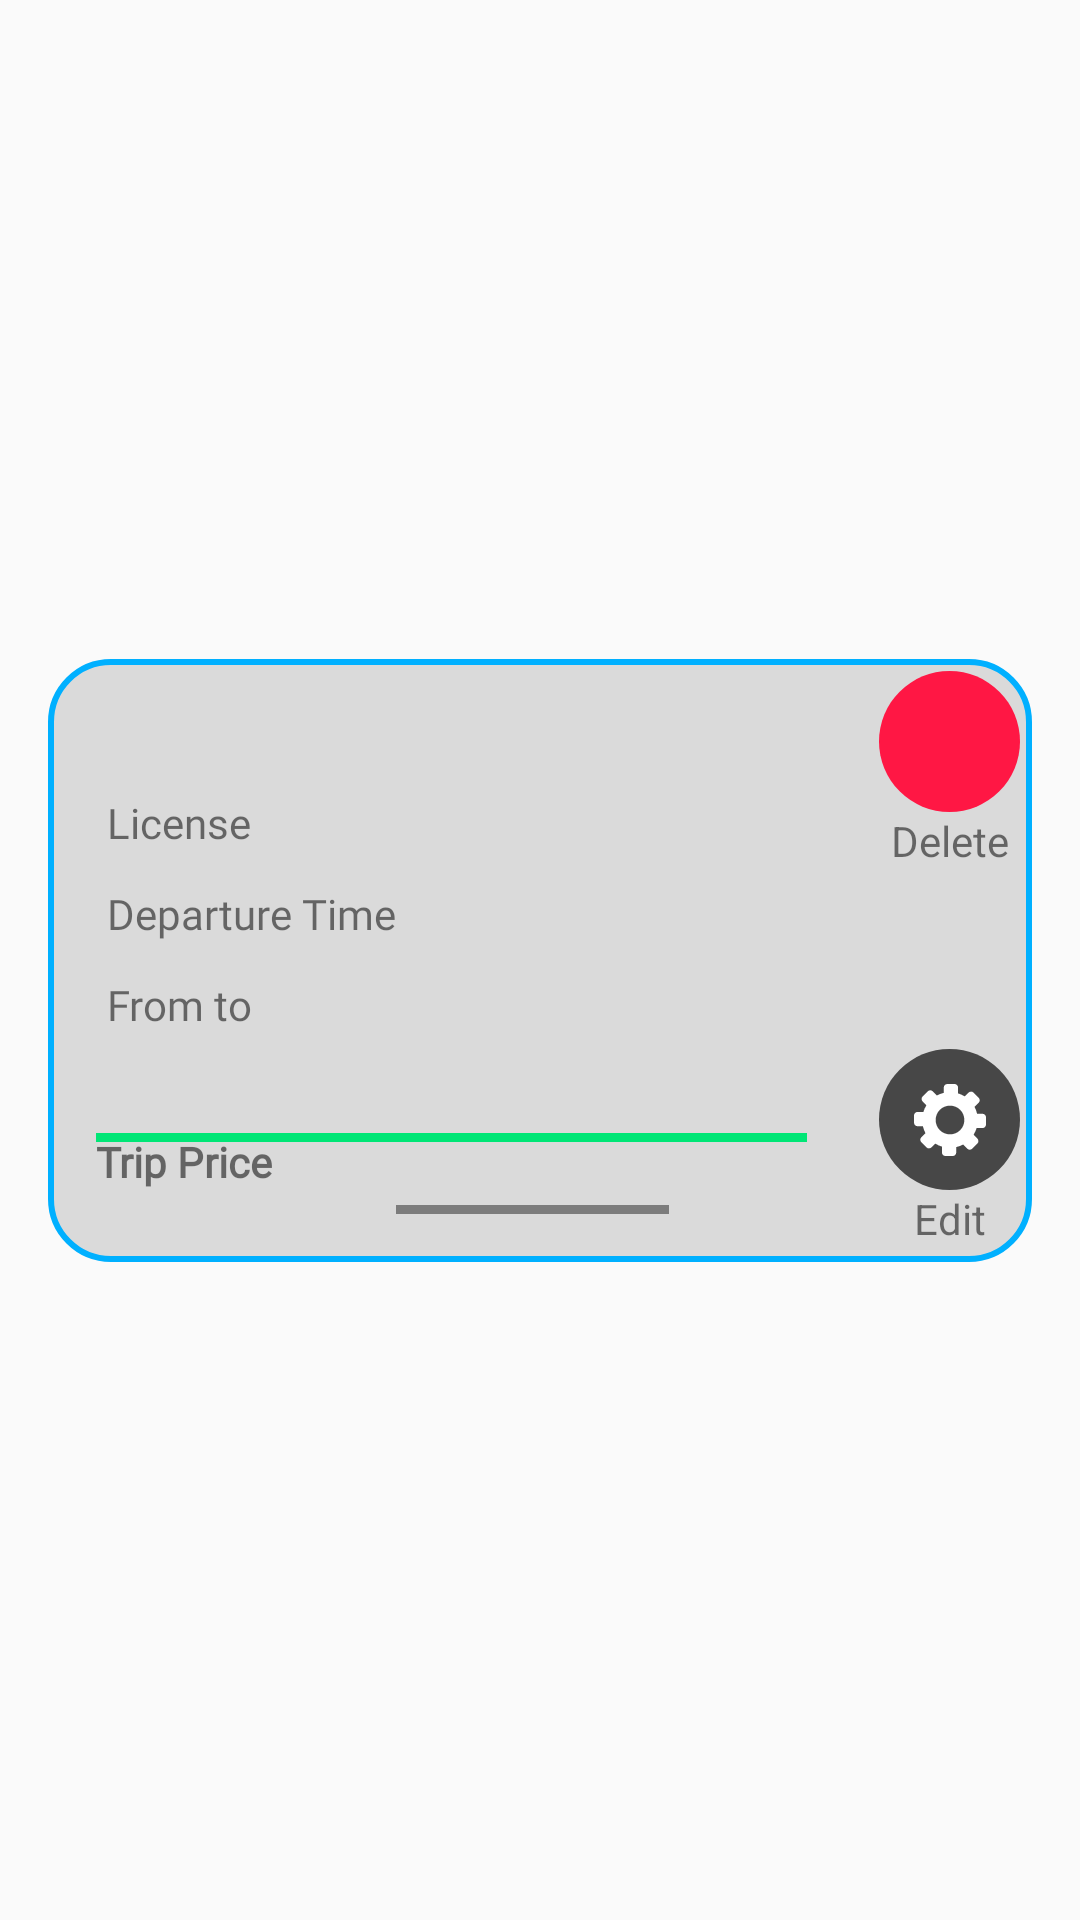

Icons on this 1080 × 1920 Android screen, each with its box as (x1, y1, x2, y2):
setting: (879, 1049, 1020, 1190)
